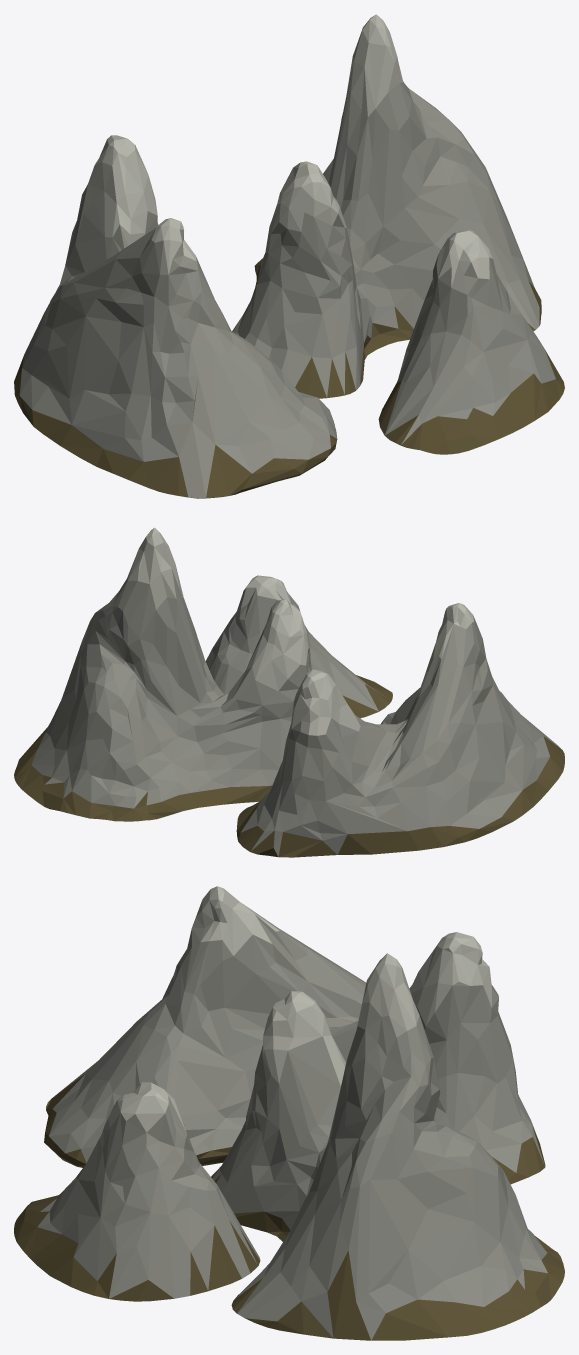
The model's file is mountain_b.glb.
3 views of the same model, one above another, from view 1: azimuth 30°, elevation 25°; view 2: azimuth 150°, elevation 25°; view 3: azimuth 270°, elevation 25° (orthographic). The views are drawn at different scales.
Size of the model in its own units: 4.59 by 2.49 by 3.84.
